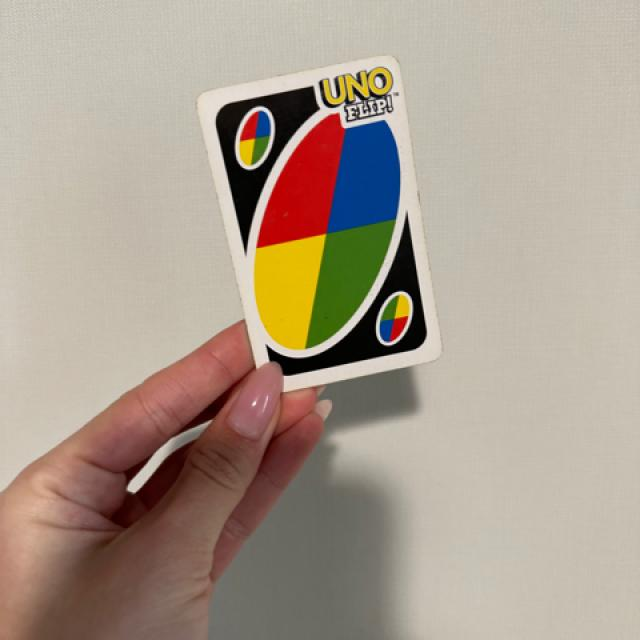lcolor-40: (227, 99, 278, 175)
